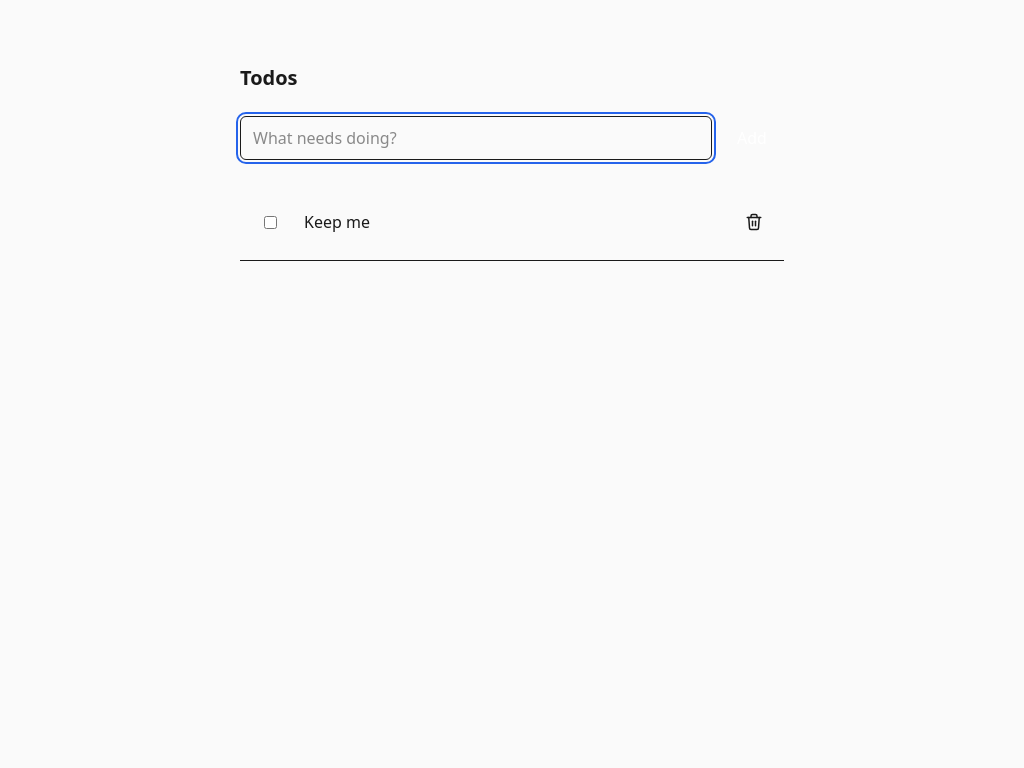
Test: <App /> integration — full tree with mocked fetch › Cancel button closes the modal without firing DELETE
Expected: the text "Keep me" is shown, [304,211,370,233]
Click the button named "Delete todo: Keep me" at (754, 222), box [732,200,776,244]
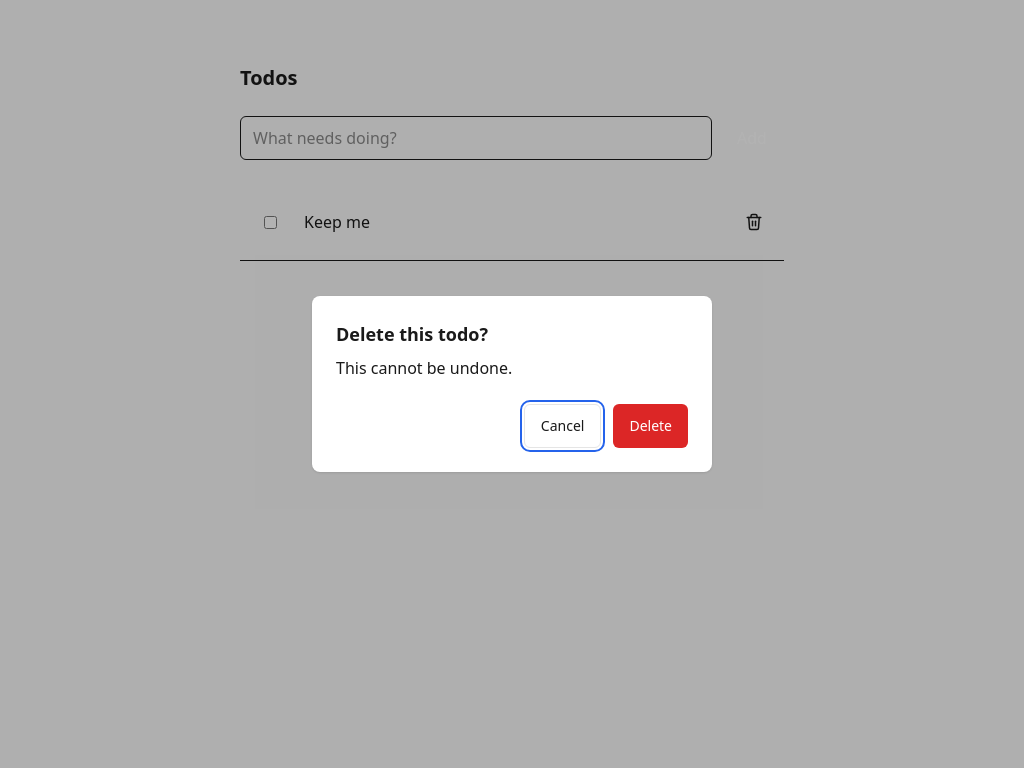
Click the button "Cancel" at (563, 426), box [524,404,601,448]
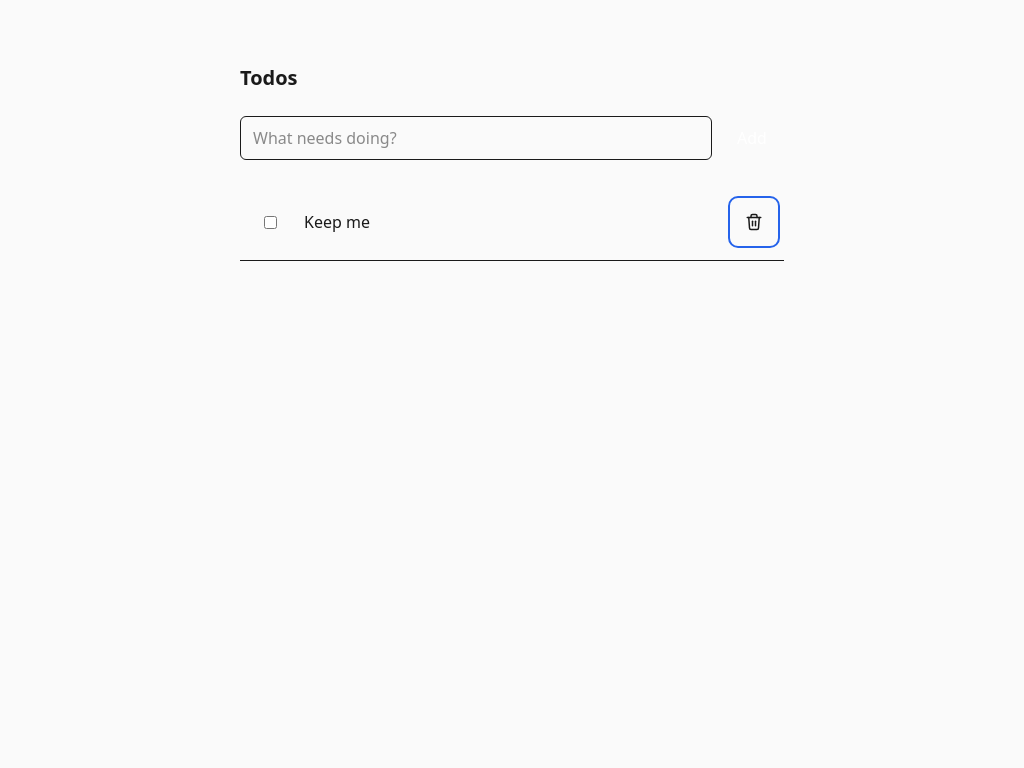
Expected: the text "Keep me" is shown, [304,211,370,233]
Expected: the dialog is gone
